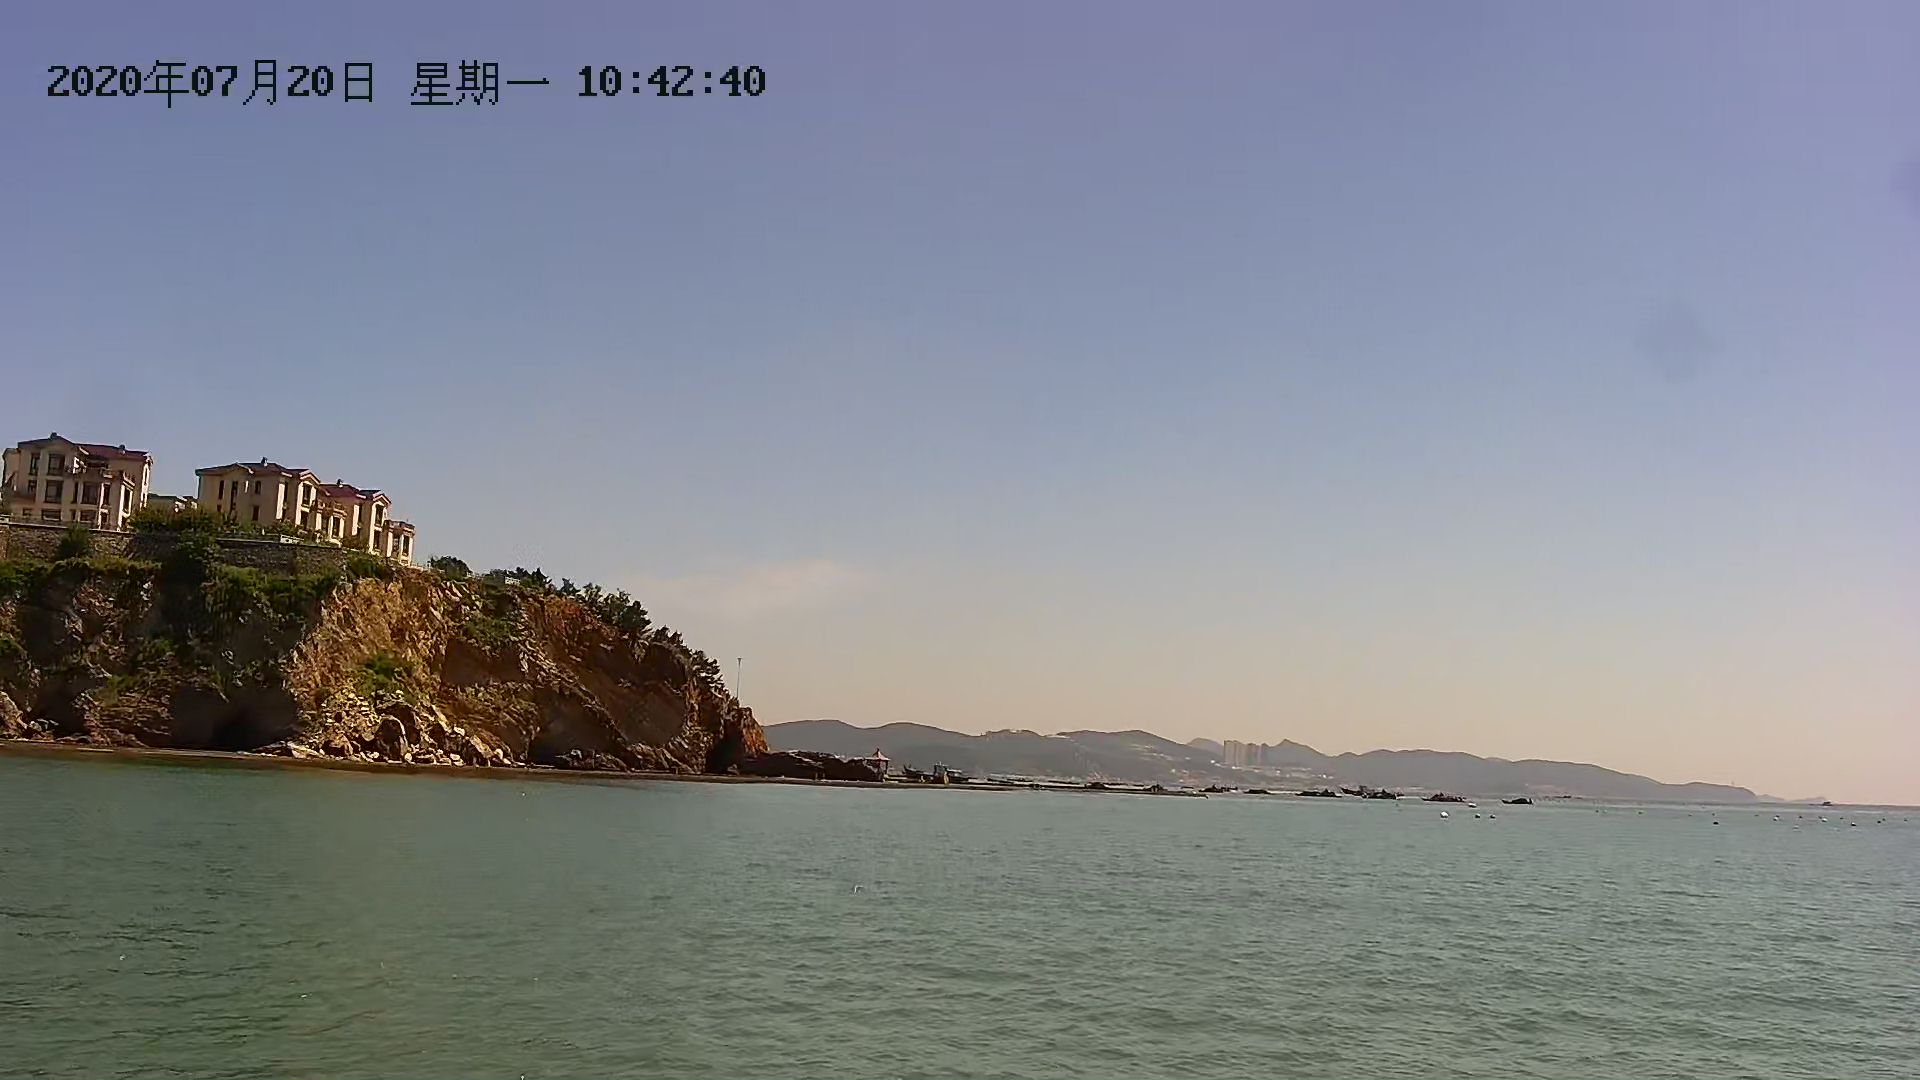rubbish: (1298, 782, 1342, 803), (1424, 789, 1466, 808), (1237, 778, 1276, 799), (1367, 785, 1404, 807), (1201, 779, 1240, 796), (1506, 796, 1540, 811)
